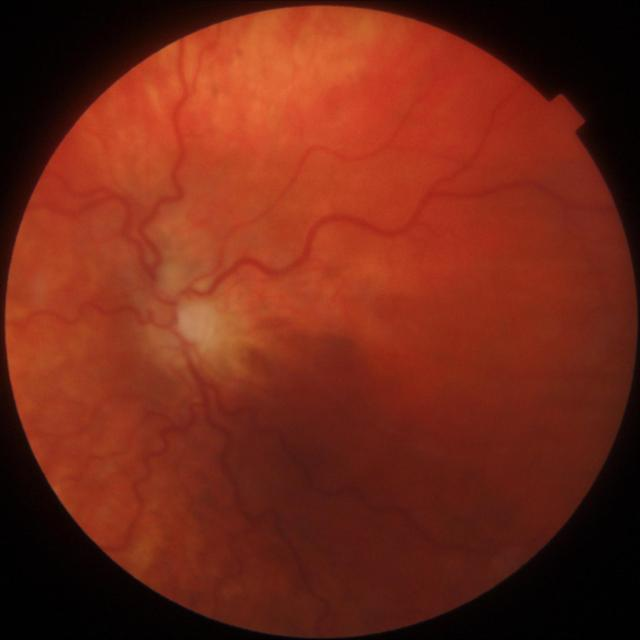OC: (178, 308, 205, 339)
OD: (146, 292, 217, 365)
